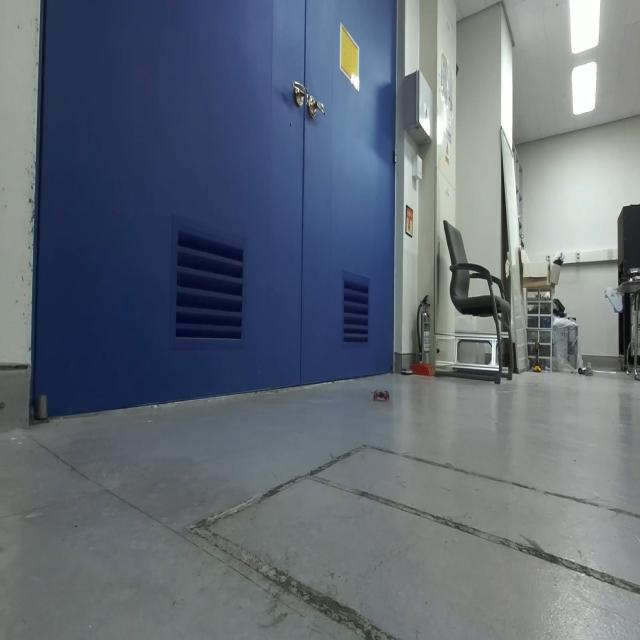crazyflie: (368, 383, 392, 410)
